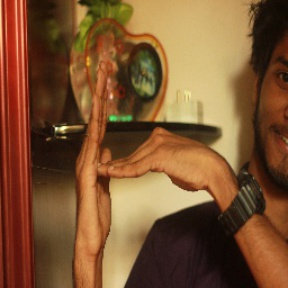Z: (69, 63, 220, 256)
